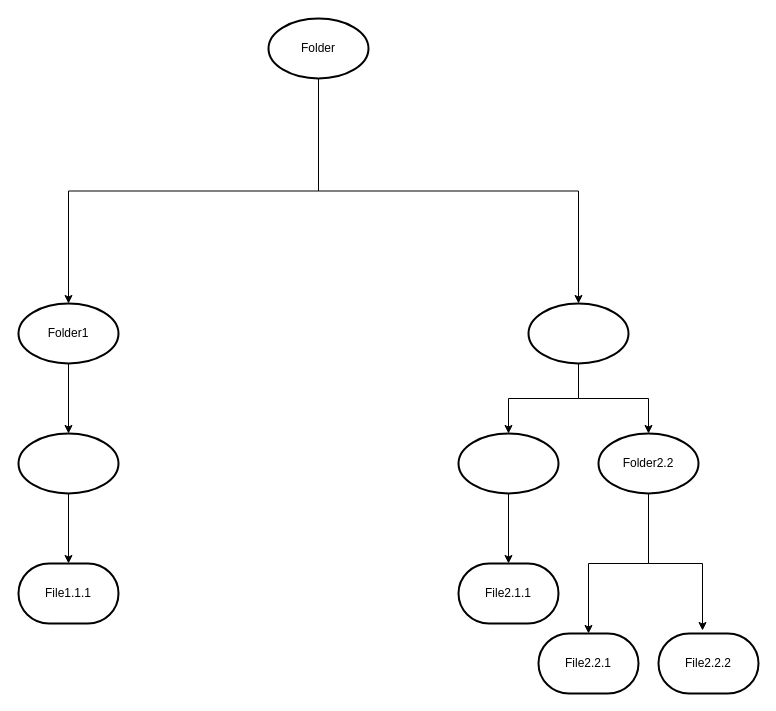
Some shapes in this 776 by 711 pixel diagram are drawn without their labels. Here are the shapes that lost their labels. From the top down, the centre of each, then its label:
At [578,333]: "Folder2".
At [68,463]: "Folder1.1".
At [508,463]: "Folder2.1".
